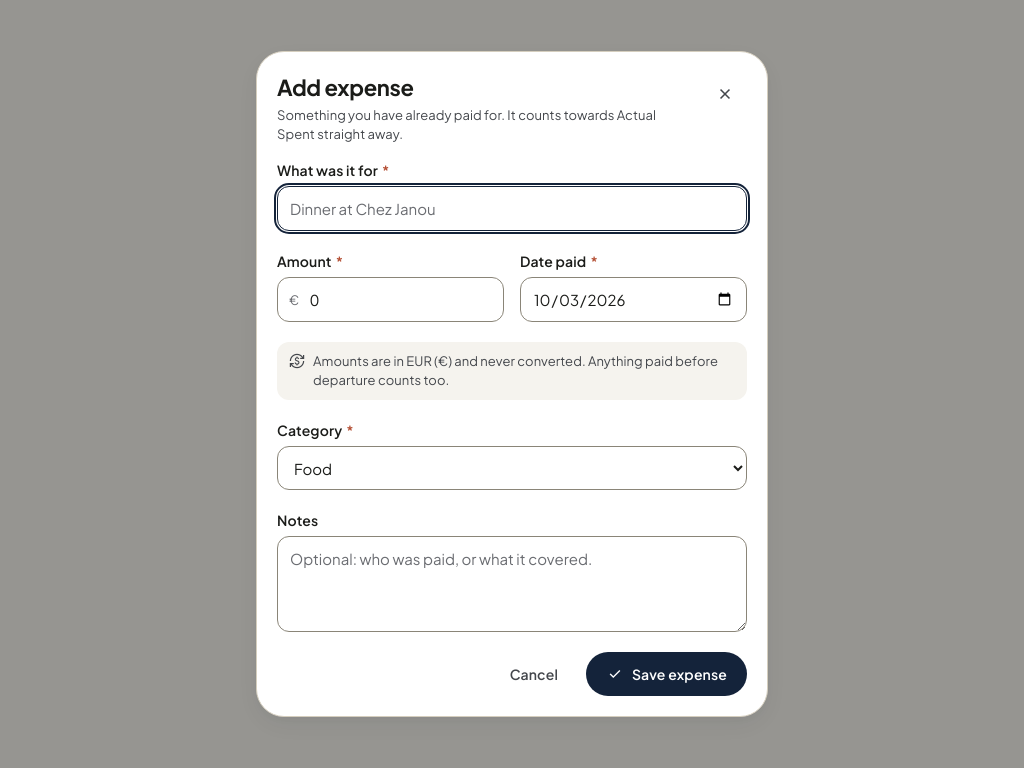
Scenario: ExpenseFormDialog amount ceiling › refuses 1e21, an amount above the trip budget ceiling
Type "Dinner" into the field labelled "What was it for*". click: (512, 208)
box: [277,186,747,231]
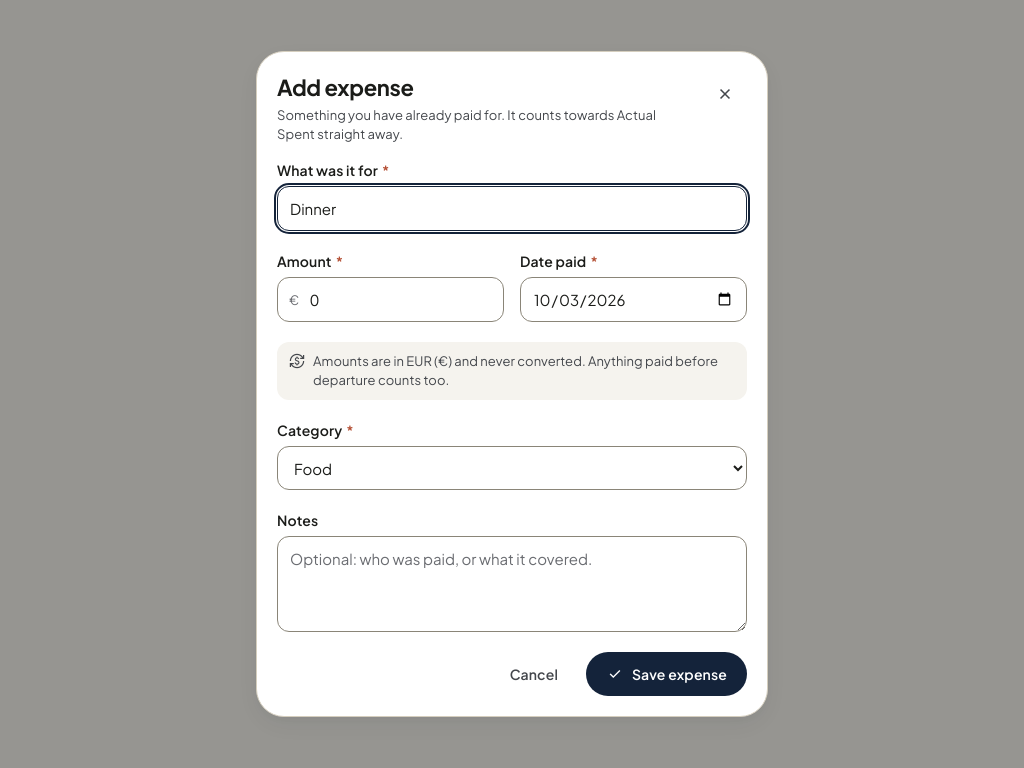
Replace the text in the number field labelled "Amount*" with "1e21". click: (390, 300)
box: [277,277,504,322]
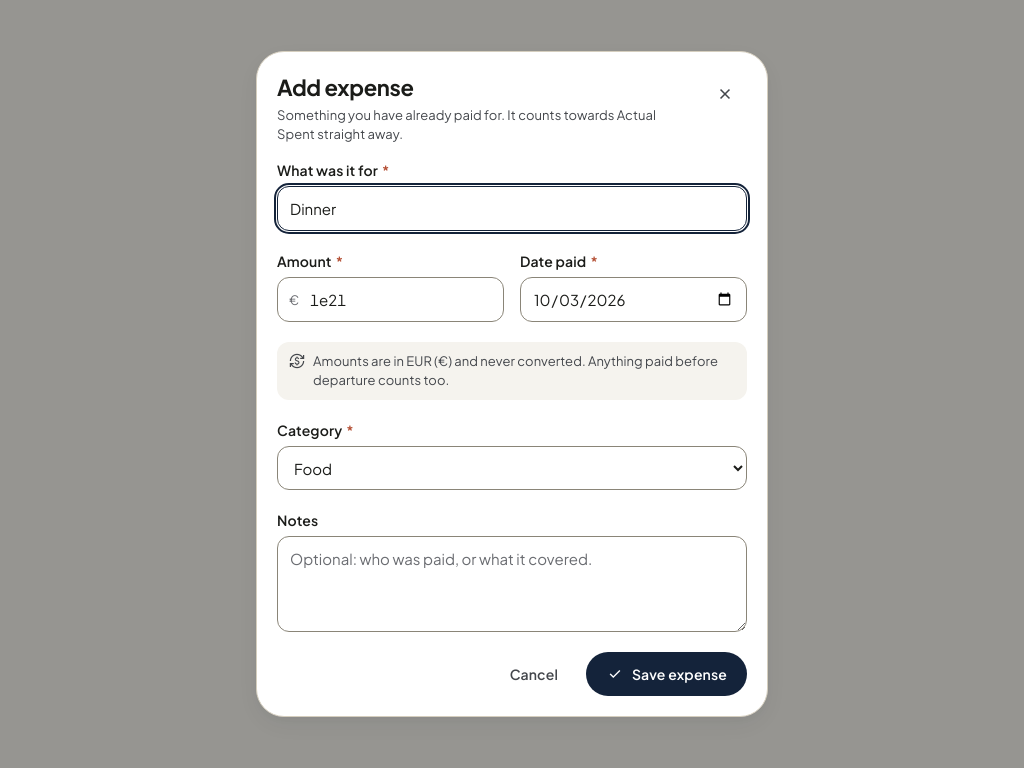
Click the button "Save expense". click: (666, 674)
box: [586,652,747,696]
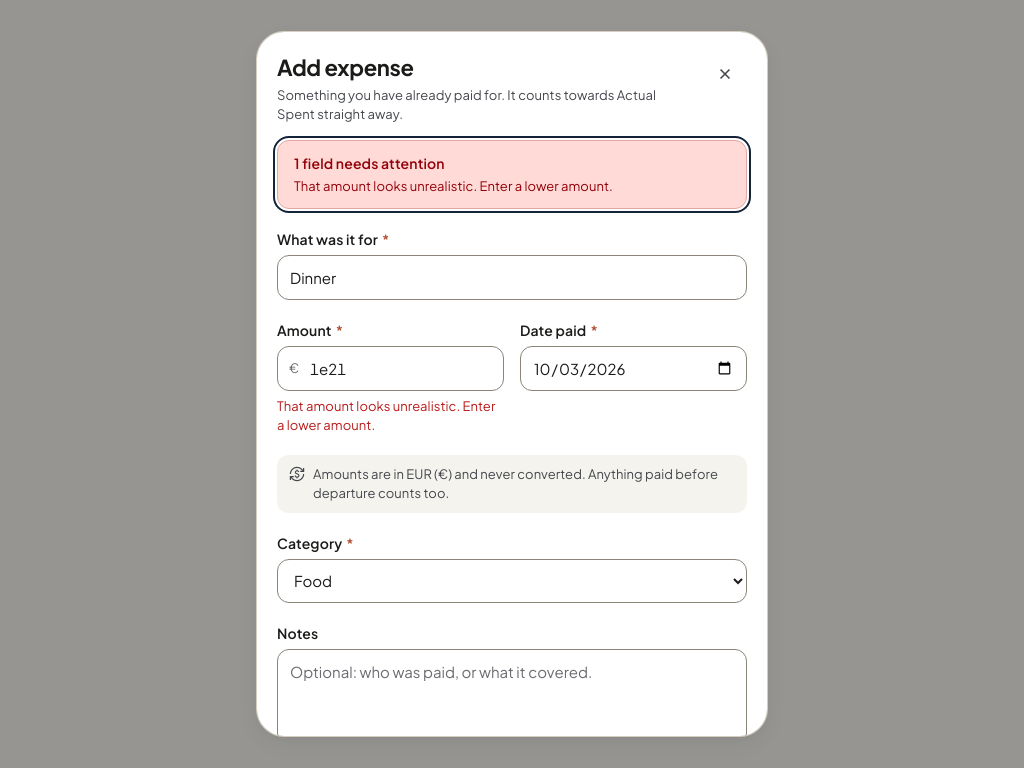
Now the message shows "That amount looks unrealistic. Enter a lower amount.", box [294,178,613,194]
